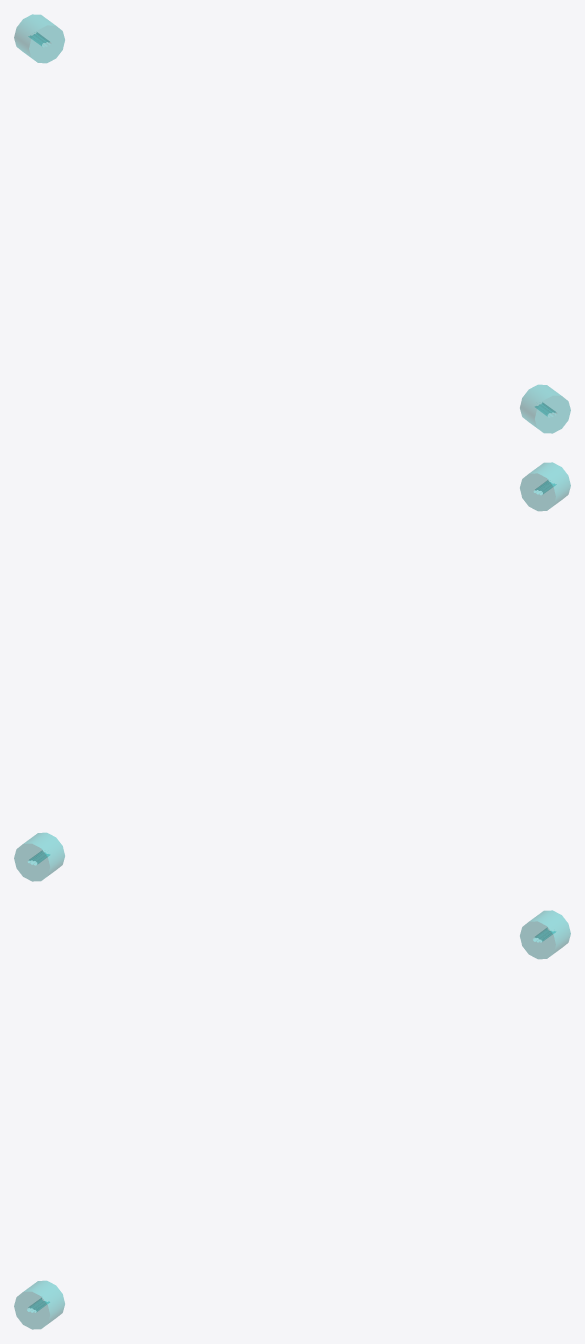
The model's file is BeamCal.gltf.
3 views of the same model, one above another, from view 1: azimuth 30°, elevation 25°; view 2: azimuth 150°, elevation 25°; view 3: azimuth 330°, elevation 25° (orthographic).
Visible parts, largest first — view 1: BeamCal_envelope_0, BeamCal_envelope_1; view 2: BeamCal_envelope_0, BeamCal_envelope_1; view 3: BeamCal_envelope_0, BeamCal_envelope_1.
Part boxes in pixels (x1,y1,x2,y2): BeamCal_envelope_0: (520, 385, 570, 433); BeamCal_envelope_1: (14, 14, 64, 62); BeamCal_envelope_0: (520, 462, 570, 510); BeamCal_envelope_1: (14, 833, 64, 881); BeamCal_envelope_0: (14, 1281, 64, 1329); BeamCal_envelope_1: (520, 910, 570, 958).
Bounding box in the file's own units: 25.92 × 25.92 × 645.
